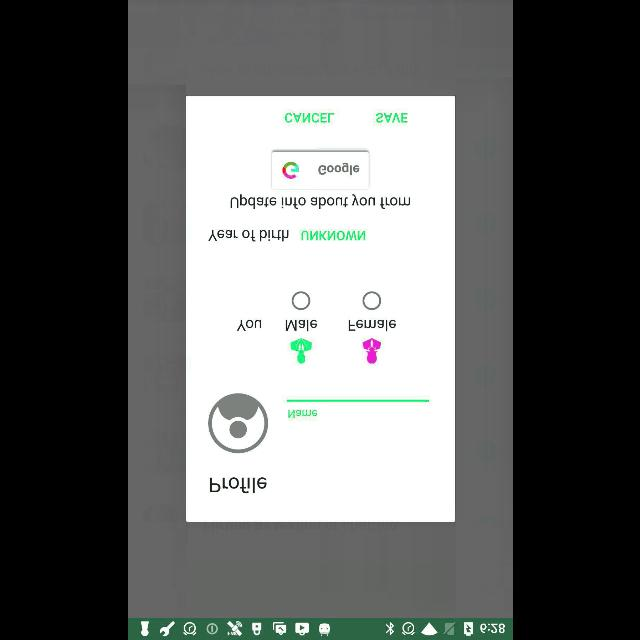checkbox: (290, 292, 310, 310), (362, 292, 381, 310)
icon: (206, 393, 268, 453)
image: (289, 338, 311, 364), (362, 338, 381, 364)
input: (286, 399, 428, 418)
panel: (185, 96, 455, 522)
text: (230, 194, 410, 210), (208, 228, 288, 242), (210, 476, 266, 494), (301, 230, 365, 240), (348, 320, 396, 332), (284, 113, 334, 123), (285, 320, 317, 332), (375, 113, 407, 123), (236, 320, 260, 330), (288, 410, 316, 418)
textbutton: (270, 152, 368, 190)
uppertaskbar: (128, 617, 512, 639)
